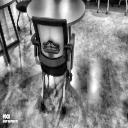chair_success: (32, 16, 74, 112)
